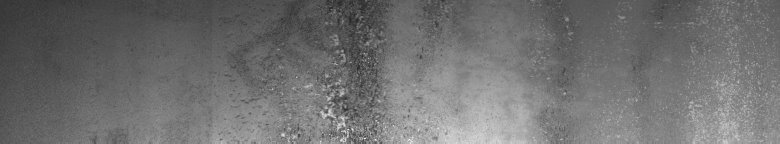hc: (282, 5, 380, 136)
